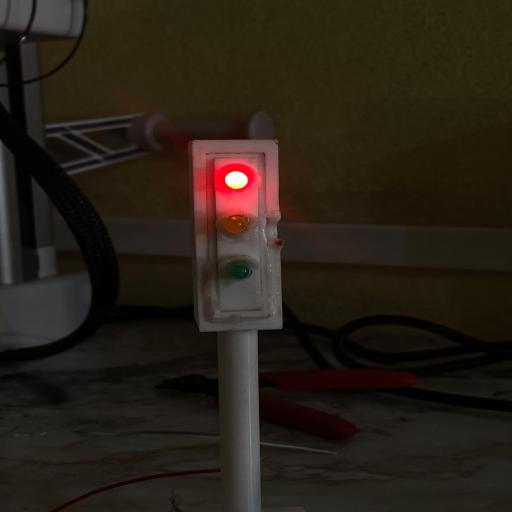Red Light: (216, 162, 259, 192), (225, 171, 248, 189)
